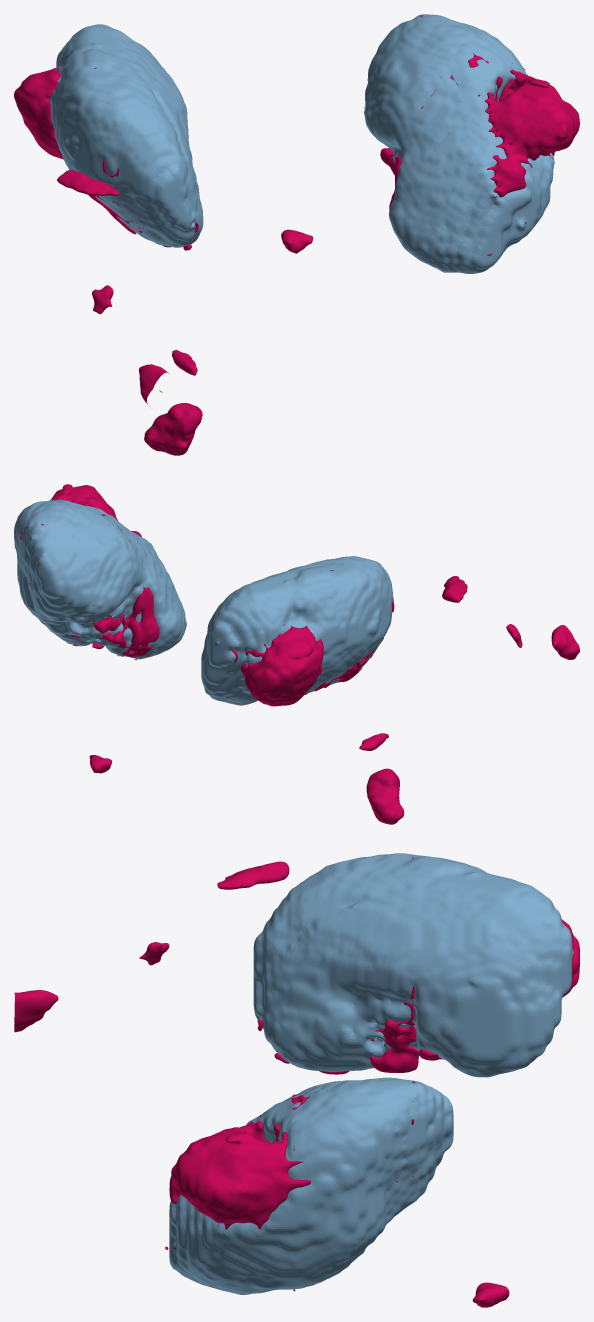
File: kidney.glb
The picture shows the model from 3 angles, top to bottom: view 1: azimuth 30°, elevation 25°; view 2: azimuth 150°, elevation 25°; view 3: azimuth 270°, elevation 25°; orthographic projection. The views are drawn at different scales.
Visible parts, largest first — view 1: geometry_0_OWQAEYJIIUVP, geometry_1_QARHRSVQXZHT; view 2: geometry_0_OWQAEYJIIUVP, geometry_1_QARHRSVQXZHT; view 3: geometry_0_OWQAEYJIIUVP, geometry_1_QARHRSVQXZHT.
Part boxes in pixels (bbox=[...]): geometry_0_OWQAEYJIIUVP: bbox=[49, 14, 554, 392]; geometry_1_QARHRSVQXZHT: bbox=[14, 15, 579, 455]; geometry_0_OWQAEYJIIUVP: bbox=[14, 499, 393, 705]; geometry_1_QARHRSVQXZHT: bbox=[20, 484, 579, 824]; geometry_0_OWQAEYJIIUVP: bbox=[169, 853, 573, 1294]; geometry_1_QARHRSVQXZHT: bbox=[14, 856, 579, 1307].
Size of the model in its own units: 273 by 170 by 215.
